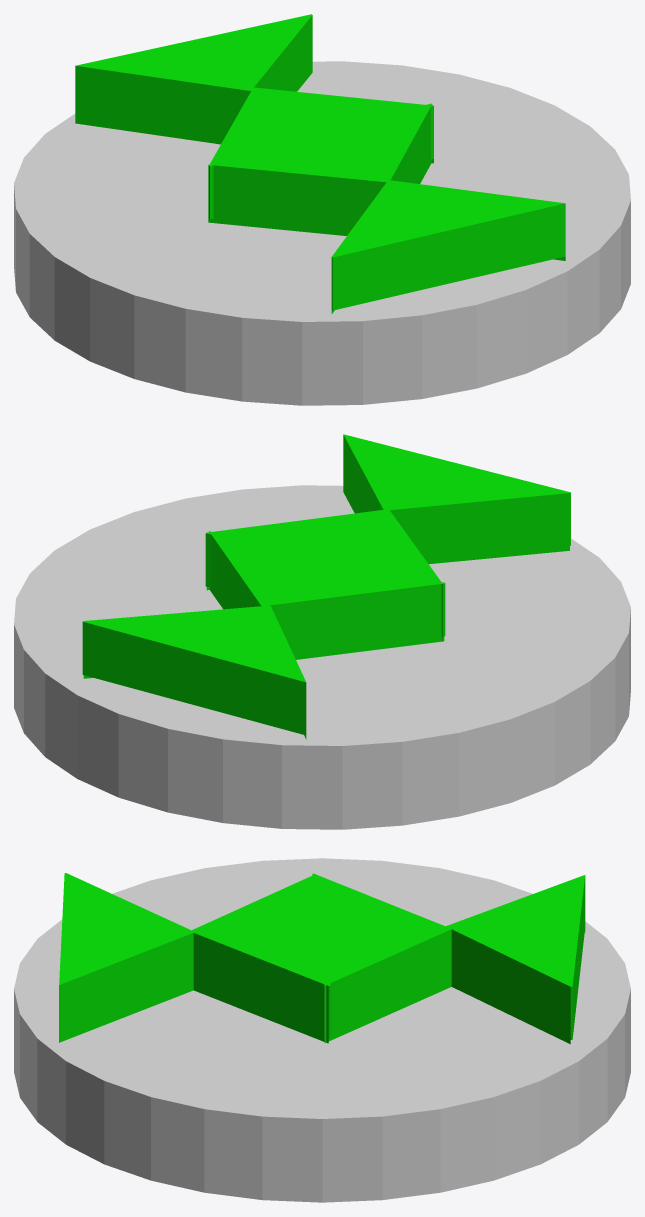
File: Rune3.fbx
The picture shows the model from 3 angles, top to bottom: view 1: azimuth 30°, elevation 25°; view 2: azimuth 150°, elevation 25°; view 3: azimuth 270°, elevation 25°; orthographic projection.
Parts seen in each view (by area): view 1: Cylinder, Cube, Cube.003, Cube.001, Cube.002; view 2: Cylinder, Cube.003, Cube.002, Cube, Cube.001; view 3: Cylinder, Cube, Cube.003, Cube.001, Cube.002.
Part boxes in pixels (x1,y1,x2,y2): Cylinder: [14, 61, 630, 405]; Cube: [331, 180, 565, 313]; Cube.003: [75, 14, 312, 144]; Cube.001: [208, 103, 432, 235]; Cube.002: [209, 87, 433, 222]; Cylinder: [14, 485, 630, 829]; Cube.003: [82, 605, 306, 739]; Cube.002: [209, 531, 445, 659]; Cube: [343, 434, 570, 564]; Cube.001: [205, 510, 442, 641]; Cylinder: [14, 858, 630, 1202]; Cube: [59, 873, 193, 1042]; Cube.003: [446, 875, 585, 1044]; Cube.001: [192, 876, 330, 1043]; Cube.002: [312, 873, 451, 1042].
Size of the model in its own units: 200 by 50.51 by 200.
